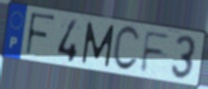3: (169, 34, 199, 81)
4: (56, 17, 80, 64)
C: (111, 25, 142, 74)
F: (24, 11, 57, 59), (139, 30, 172, 74)
M: (81, 20, 117, 69)
